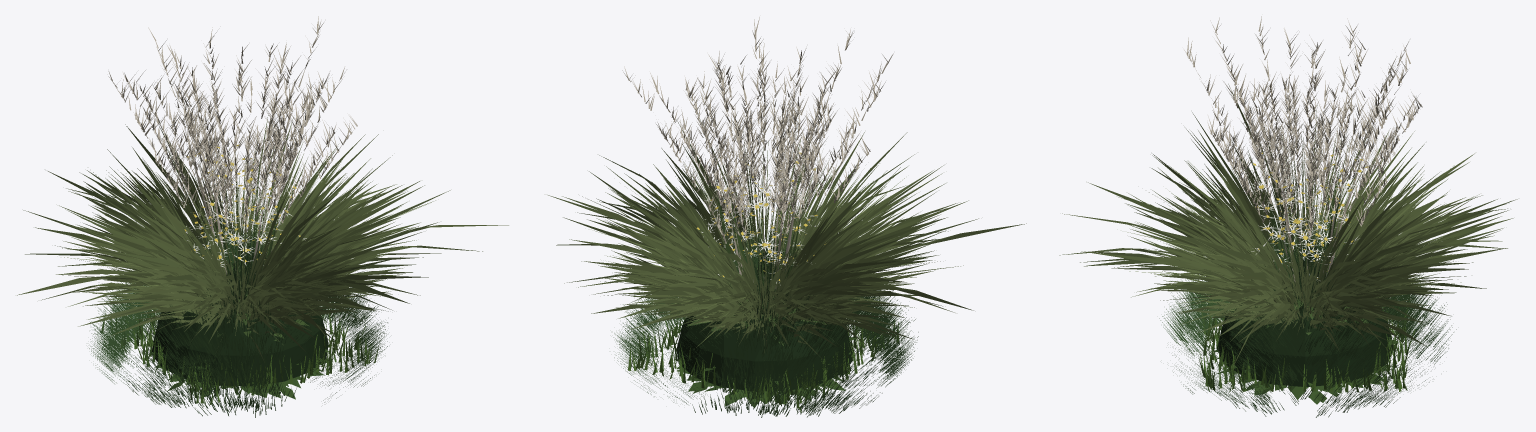
File: pflanzen.glb
The picture shows the model from 3 angles, left to right: view 1: azimuth 30°, elevation 25°; view 2: azimuth 150°, elevation 25°; view 3: azimuth 270°, elevation 25°; orthographic projection.
Parts seen in each view (by area): view 1: Ziergras_0, Ziergras_1, Ziergras_4, Kiefernpolster_0, Ziergras_3, Ziergras_2, Kiefernpolster_1, Kiefernpolster_2, Rasenstueck_Lauf_1, Staude_0, Rasenstueck_Lauf_0, Rasenstueck_Lauf_3 (+4 smaller); view 2: Ziergras_0, Ziergras_4, Ziergras_1, Kiefernpolster_0, Ziergras_3, Ziergras_2, Kiefernpolster_1, Kiefernpolster_2, Rasenstueck_Lauf_0, Rasenstueck_Lauf_2, Staude_2, Rasenstueck_Lauf_3 (+4 smaller); view 3: Ziergras_0, Ziergras_4, Ziergras_1, Kiefernpolster_0, Ziergras_3, Ziergras_2, Kiefernpolster_1, Kiefernpolster_2, Staude_2, Rasenstueck_Lauf_3, Rasenstueck_Lauf_0, Staude_0 (+4 smaller).
Boxes of the visible parts, <box> form: Ziergras_0: <box>35,16,482,357</box>; Ziergras_1: <box>17,27,450,351</box>; Ziergras_4: <box>23,118,425,335</box>; Kiefernpolster_0: <box>89,223,387,417</box>; Ziergras_3: <box>48,115,508,336</box>; Ziergras_2: <box>97,84,416,362</box>; Kiefernpolster_1: <box>91,238,387,408</box>; Kiefernpolster_2: <box>93,242,387,412</box>; Rasenstueck_Lauf_1: <box>119,309,367,404</box>; Staude_0: <box>181,150,309,341</box>; Rasenstueck_Lauf_0: <box>120,312,363,403</box>; Rasenstueck_Lauf_3: <box>101,313,379,403</box>; Ziergras_0: <box>577,17,978,349</box>; Ziergras_4: <box>548,116,947,345</box>; Ziergras_1: <box>587,29,973,354</box>; Kiefernpolster_0: <box>614,228,918,417</box>; Ziergras_3: <box>564,115,1026,352</box>; Ziergras_2: <box>591,99,928,358</box>; Kiefernpolster_1: <box>617,239,911,416</box>; Kiefernpolster_2: <box>618,256,913,417</box>; Rasenstueck_Lauf_0: <box>631,314,898,402</box>; Rasenstueck_Lauf_2: <box>637,316,889,408</box>; Staude_2: <box>708,152,816,345</box>; Rasenstueck_Lauf_3: <box>628,321,897,412</box>; Ziergras_0: <box>1059,17,1513,373</box>; Ziergras_4: <box>1080,112,1517,346</box>; Ziergras_1: <box>1081,16,1507,351</box>; Kiefernpolster_0: <box>1159,221,1456,417</box>; Ziergras_3: <box>1062,84,1510,354</box>; Ziergras_2: <box>1111,72,1452,347</box>; Kiefernpolster_1: <box>1183,232,1430,413</box>; Kiefernpolster_2: <box>1176,239,1437,416</box>; Staude_2: <box>1251,150,1365,323</box>; Rasenstueck_Lauf_3: <box>1199,296,1409,392</box>; Rasenstueck_Lauf_0: <box>1201,300,1410,392</box>; Staude_0: <box>1222,166,1354,323</box>.
Bounding box in the file's own units: 2.01 × 1.37 × 1.81.
